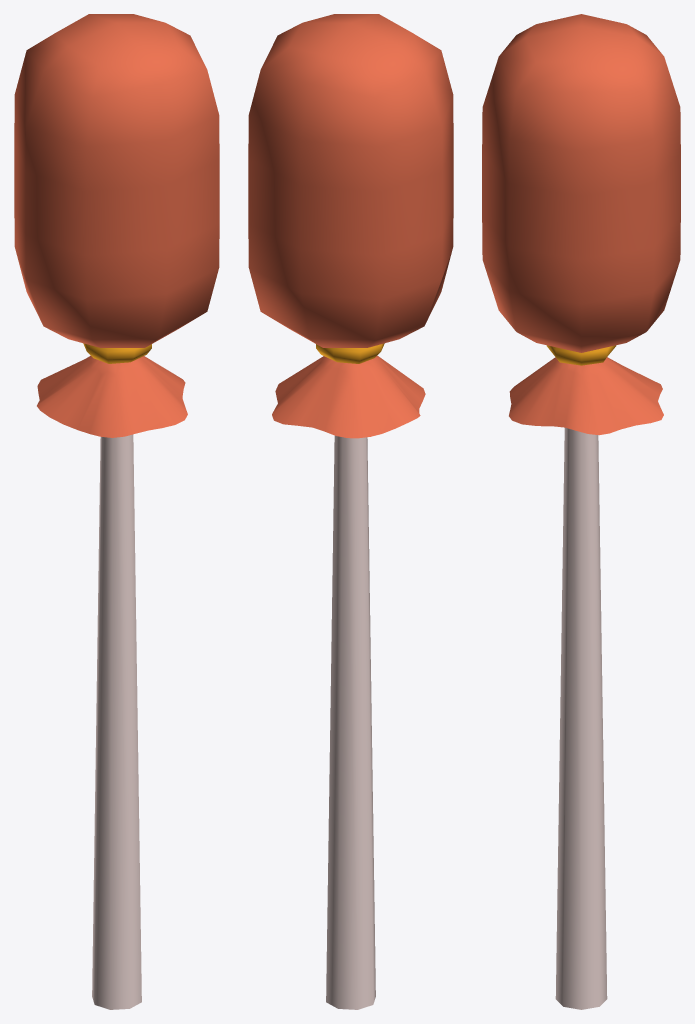
The model's file is Pop 2.fbx.
3 views of the same model, side by side, from view 1: azimuth 30°, elevation 25°; view 2: azimuth 150°, elevation 25°; view 3: azimuth 270°, elevation 25° (orthographic).
Visible parts, largest first — view 1: Pop 2; view 2: Pop 2; view 3: Pop 2.
Boxes of the visible parts, box(x1,y1,x2,y2) form: Pop 2: box(14, 14, 219, 1009); Pop 2: box(248, 14, 453, 1009); Pop 2: box(482, 14, 680, 1009).
Bounding box in the file's own units: 3.31 × 16.92 × 3.13.
